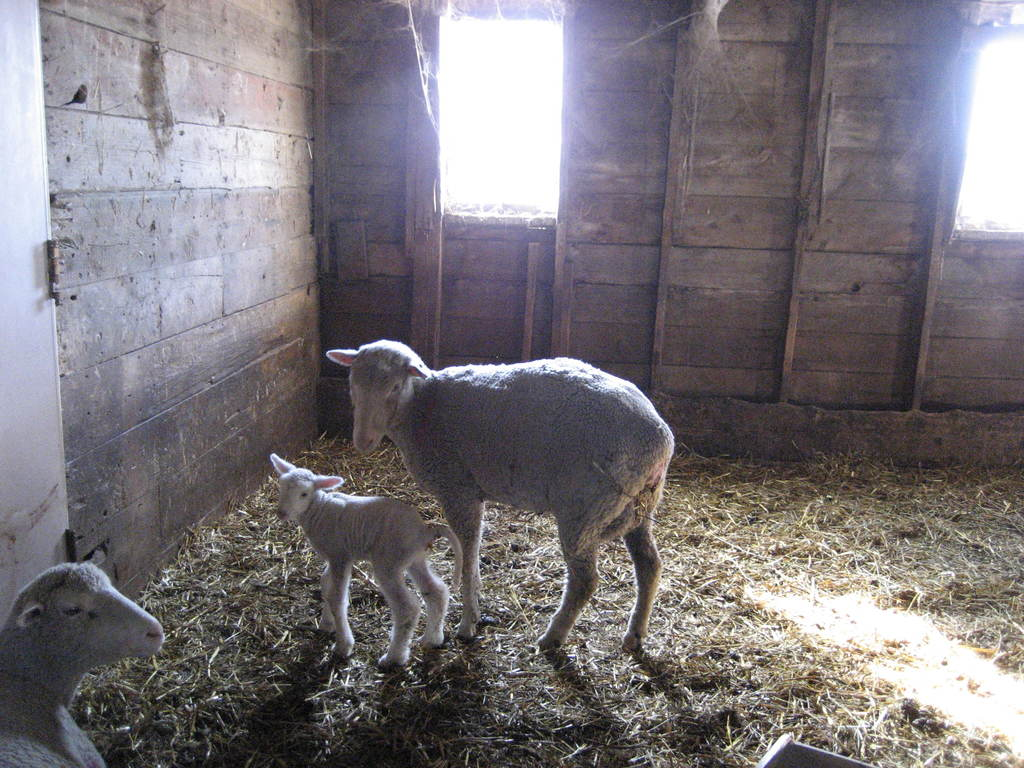sheep: (268, 453, 462, 666)
